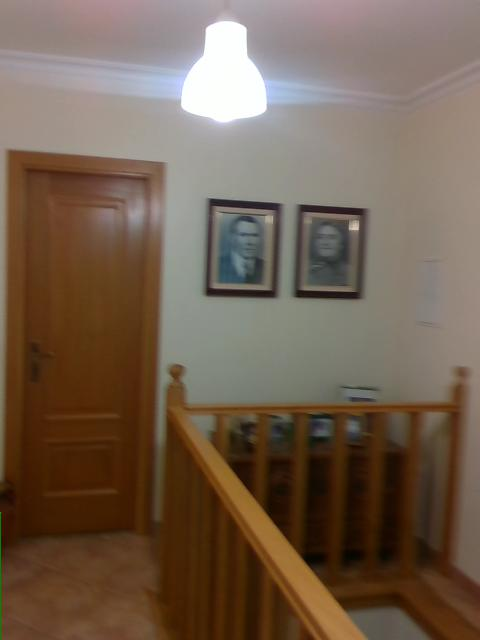door: (24, 169, 148, 534)
